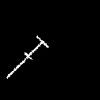double_crochet: (7, 36, 47, 77)
